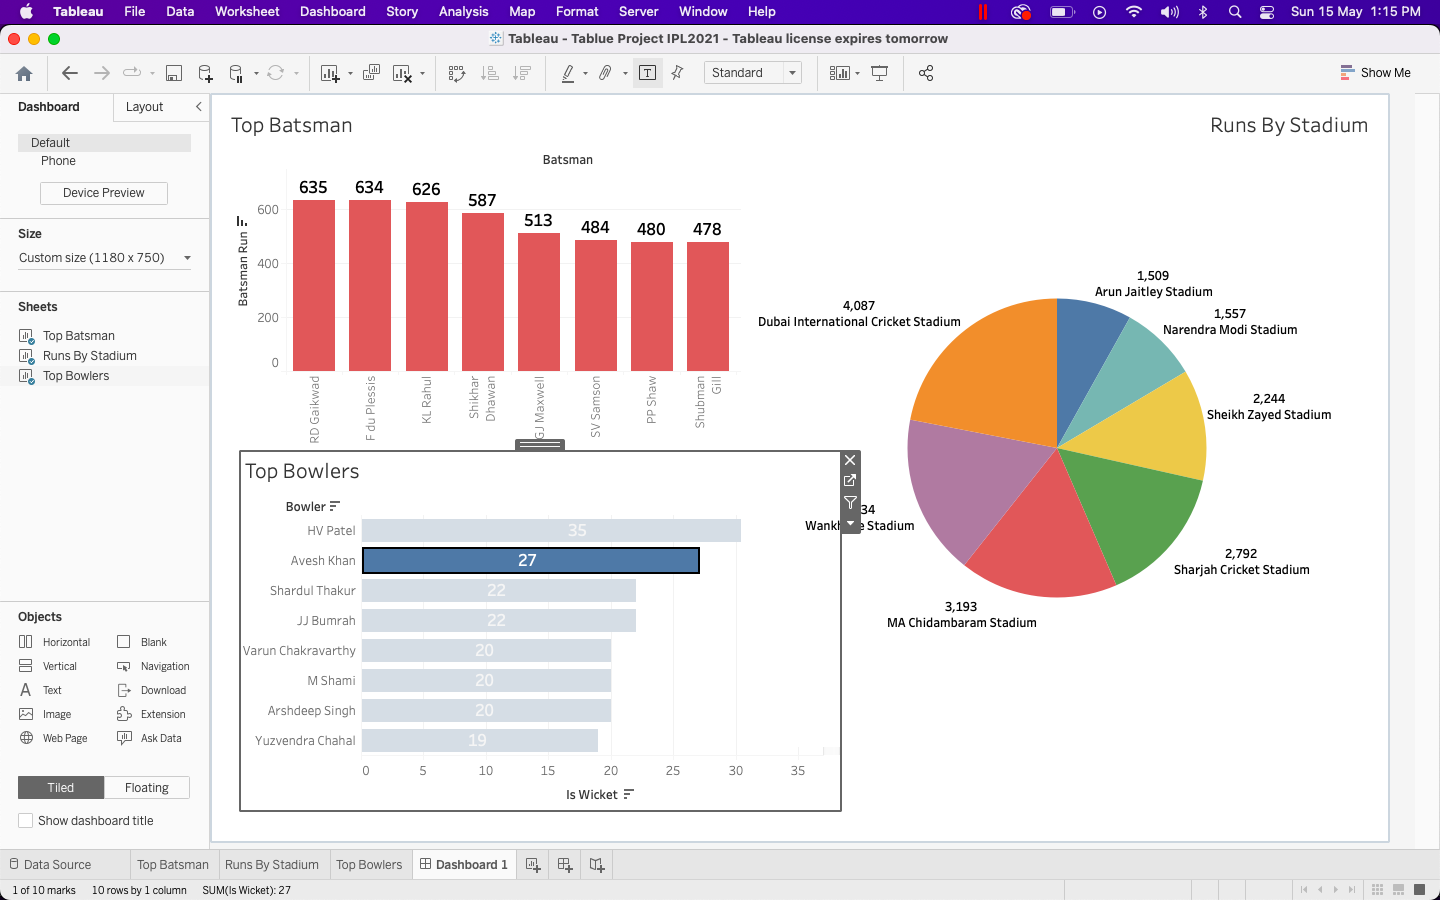

The dashboard page shown, as its layout file describes it:
{"tool":"tableau","page":{"name":"Dashboard 1","canvas":[1180,750],"ordinal":0},"visuals":[{"type":"worksheet","title":"Top Batsman","mark":"Automatic","rows":["batsman_run"],"cols":["batsman"],"box":[17,13,622,339]},{"type":"worksheet","title":"Runs By Stadium","mark":"Pie","box":[531,13,632,641]},{"type":"worksheet","title":"Top Bowlers","mark":"Automatic","rows":["bowler"],"cols":["is_wicket"],"box":[31,359,599,358]}]}

Visuals, with their boxes on the page's 1180x750 design canvas (x1, y1, x2, y2). These are canvas units, not pixel positions in the 1440x900 screenshot, which may show the page scaled, cropped or inside an application window:
"Top Batsman" worksheet: (x1=17, y1=13, x2=639, y2=352)
"Runs By Stadium" worksheet (Pie marks): (x1=531, y1=13, x2=1163, y2=654)
"Top Bowlers" worksheet: (x1=31, y1=359, x2=630, y2=717)
